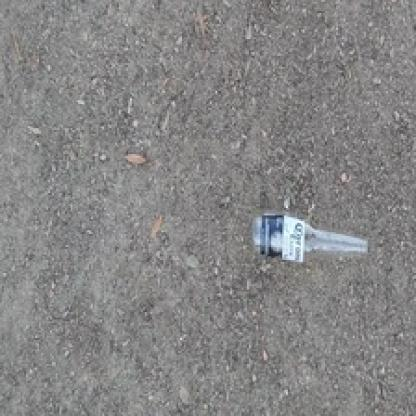Can: (252, 210, 369, 268)
